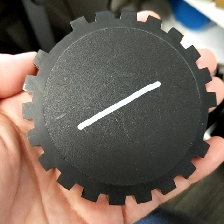gear: (20, 9, 218, 207)
missing: (34, 16, 88, 72), (196, 90, 217, 159)
